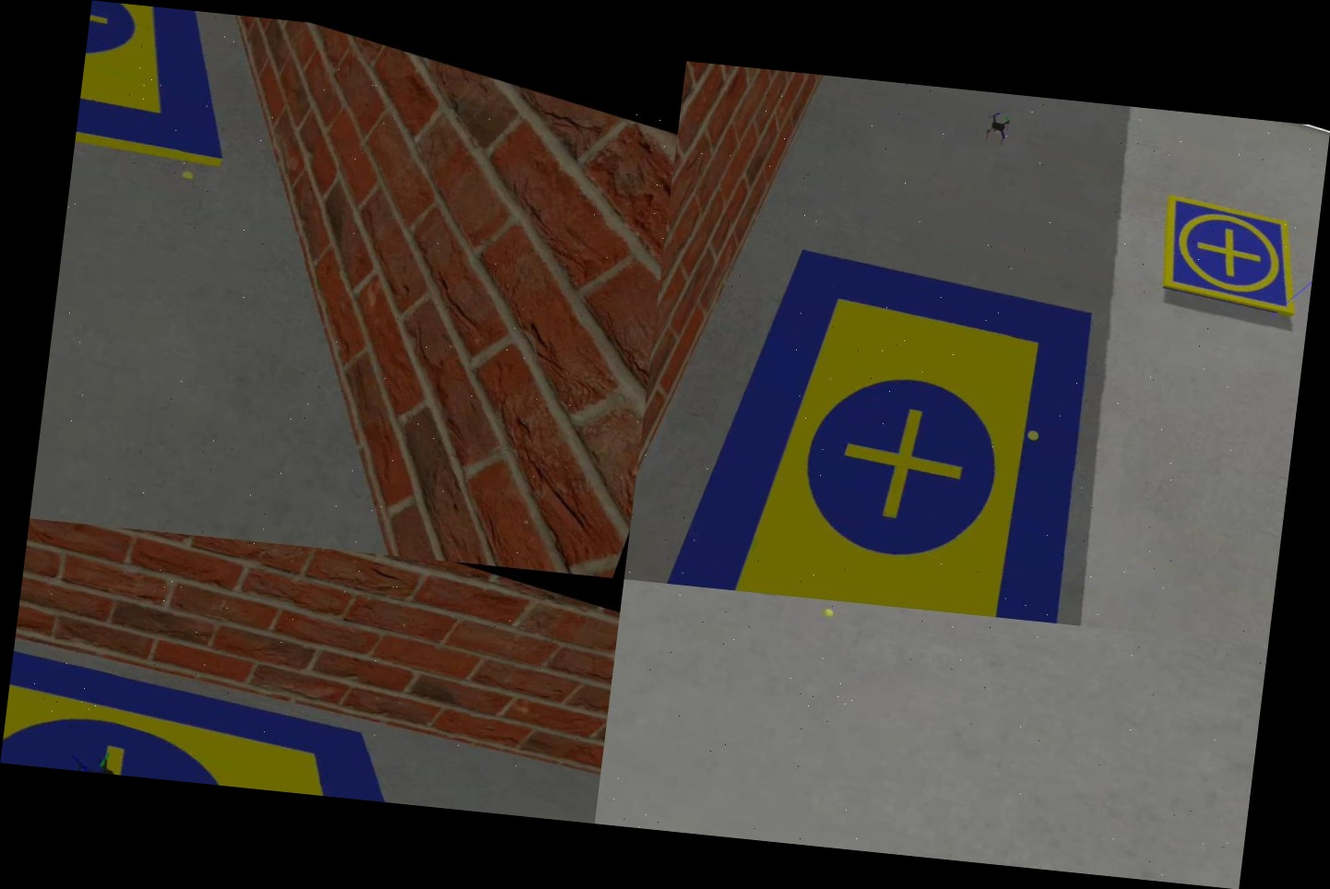large_base: (635, 213, 1200, 634), (0, 567, 583, 819), (68, 0, 279, 216)
small_base: (1134, 186, 1321, 328)
